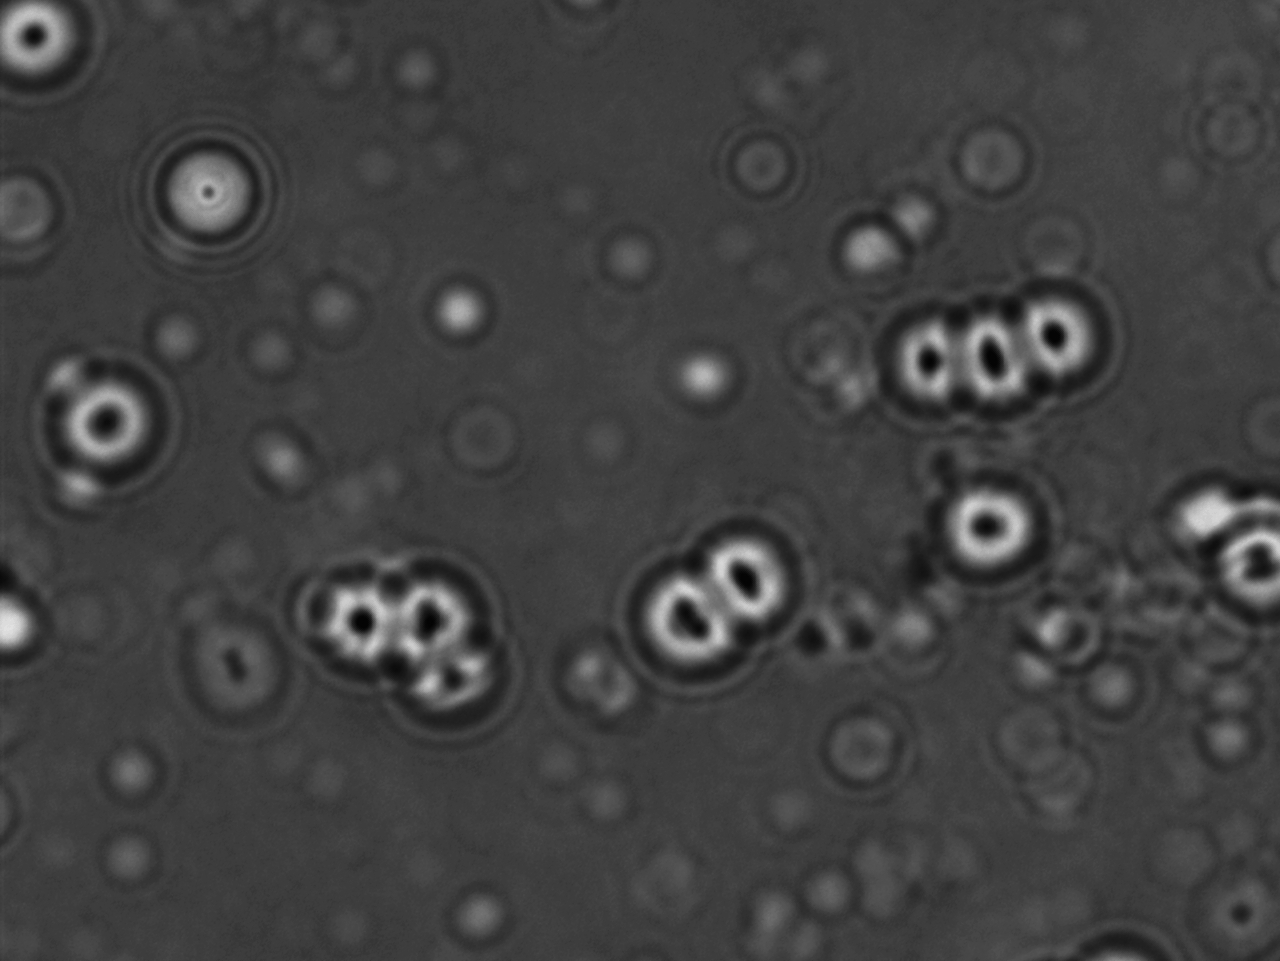depth:16: (37, 345, 185, 498), (623, 549, 747, 687), (692, 511, 810, 643), (937, 473, 1059, 597), (374, 537, 499, 656), (867, 293, 986, 417), (1002, 275, 1124, 392), (936, 297, 1050, 417), (298, 557, 407, 676)
